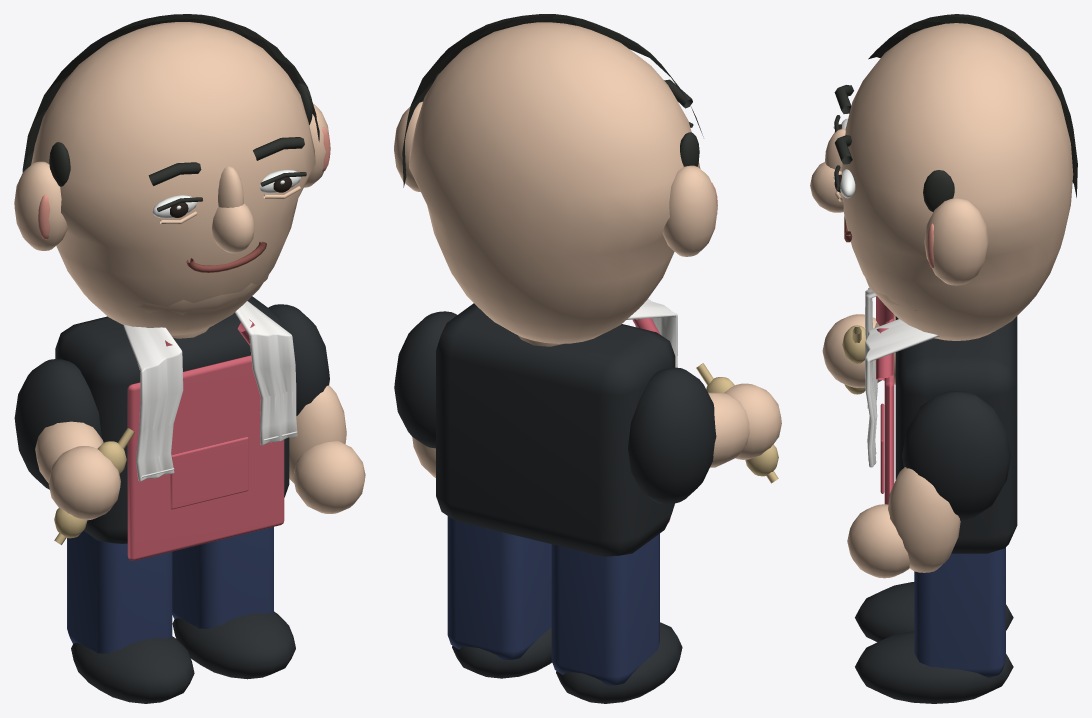
Rendered from longlong-16.glb.
The picture shows the model from 3 angles, left to right: view 1: azimuth 30°, elevation 25°; view 2: azimuth 150°, elevation 25°; view 3: azimuth 270°, elevation 25°; orthographic projection. The views are drawn at different scales.
Parts seen in each view (by area): view 1: Trousers, Task21 continuous neck towel; view 2: Trousers, Task21 continuous neck towel; view 3: Trousers, Task21 continuous neck towel.
Part boxes in pixels (<box>): Trousers: <box>14,14,365,703</box>; Task21 continuous neck towel: <box>123,301,297,481</box>; Trousers: <box>394,14,781,703</box>; Task21 continuous neck towel: <box>627,298,677,367</box>; Trousers: <box>810,14,1077,703</box>; Task21 continuous neck towel: <box>865,288,939,467</box>.
Size of the model in its own units: 1.56 by 3 by 1.13.
Materials: 3 (1 with a texture image).
